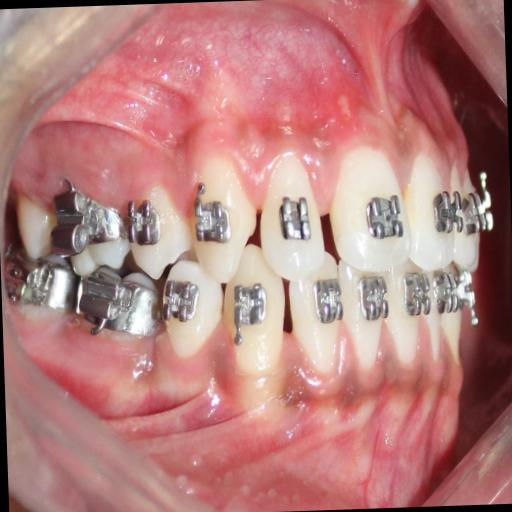correct_brace: (122, 185, 192, 283), (193, 182, 237, 252), (362, 188, 406, 246), (276, 186, 312, 247)
incorrect_brace: (256, 145, 324, 283), (125, 180, 162, 256)
